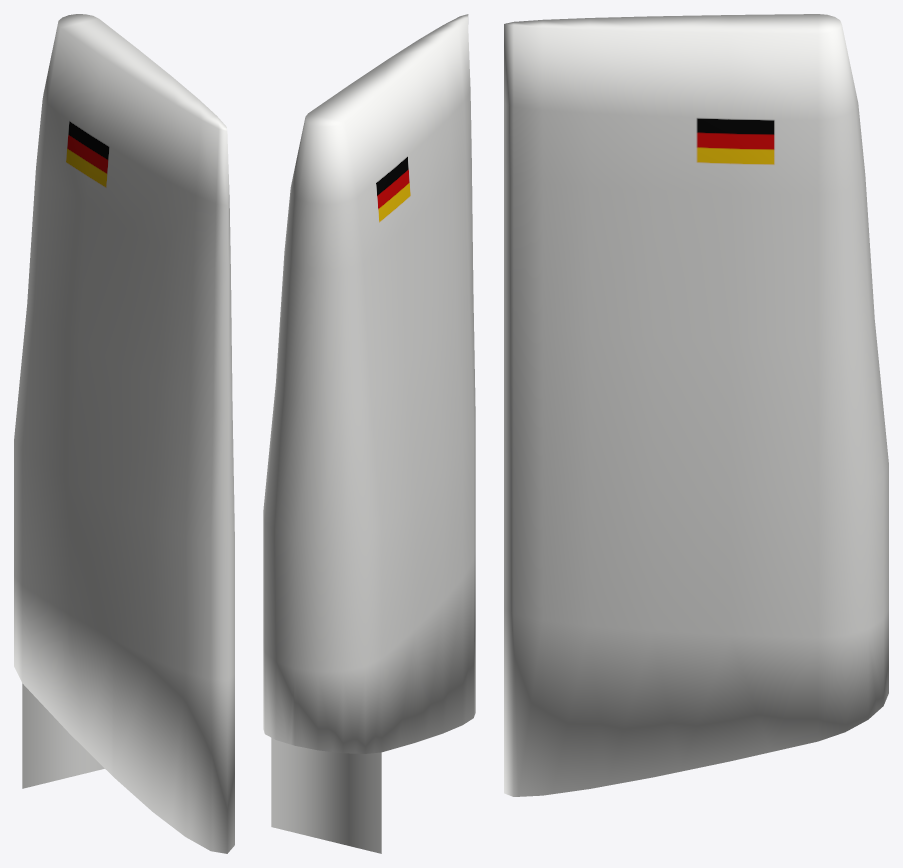
File: zlt_nt_rudder_upper.glb
3 views of the same model, side by side, from view 1: azimuth 30°, elevation 25°; view 2: azimuth 150°, elevation 25°; view 3: azimuth 270°, elevation 25° (orthographic). The views are drawn at different scales.
Visible parts, largest first — view 1: rudder_upper; view 2: rudder_upper; view 3: rudder_upper.
Part boxes in pixels (<box>): rudder_upper: <box>14,14,234,853</box>; rudder_upper: <box>263,14,475,853</box>; rudder_upper: <box>504,14,888,796</box>.
Bounding box in the file's own units: 0.8875 × 5.55 × 2.42.
2 materials, 2 textured.
